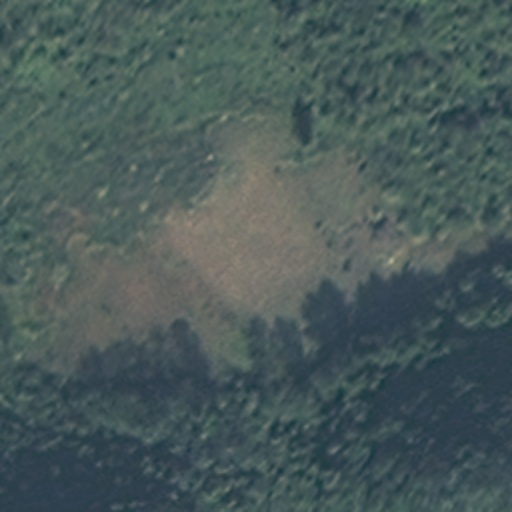landslide: (94, 118, 407, 323)
